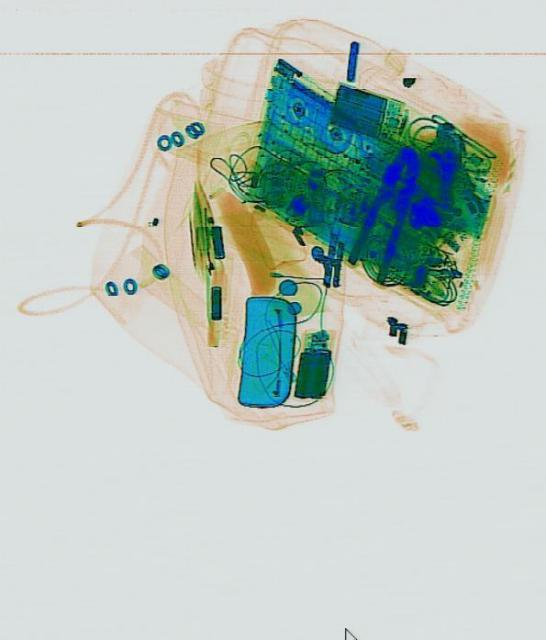Pliers: (342, 137, 425, 286)
